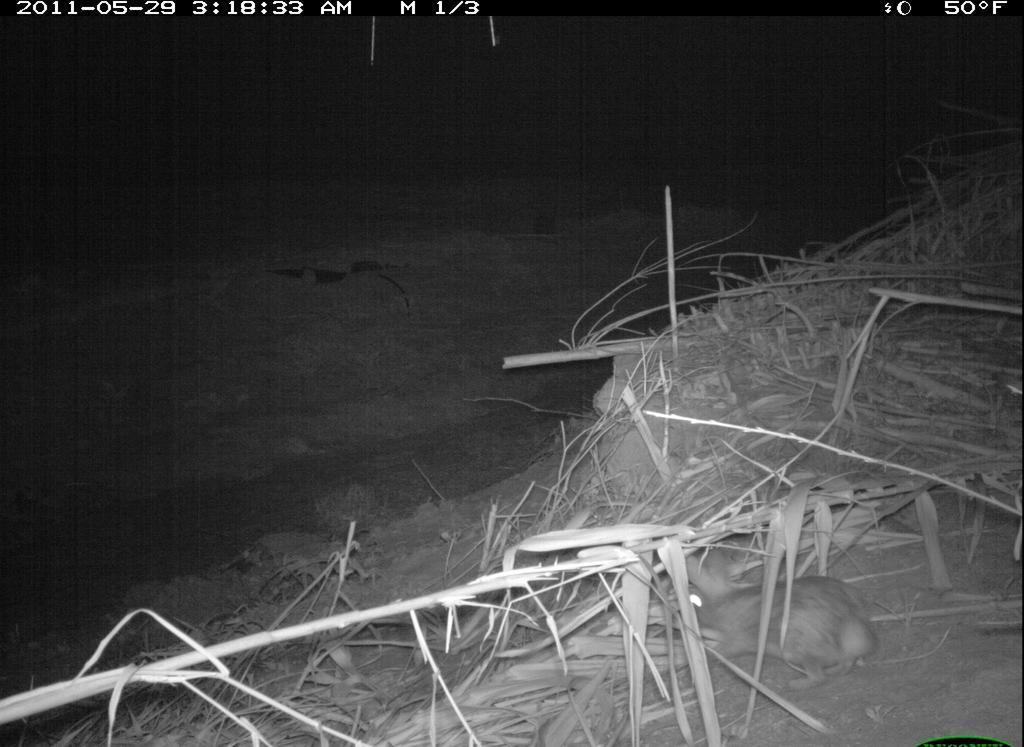rabbit: (661, 538, 900, 674)
